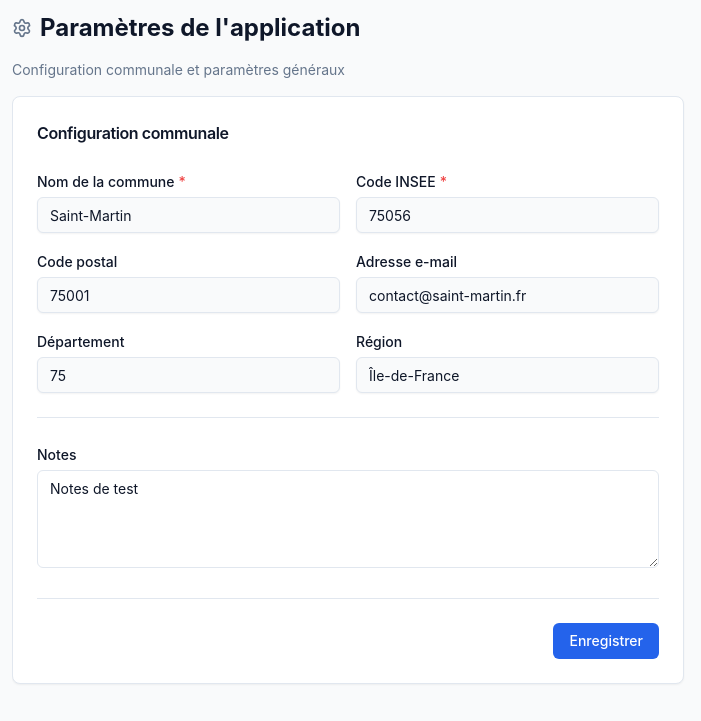
Test: Commune Settings - ParametresPage › valide le format de l'e-mail et affiche un message d'erreur
The image size is (701, 721).
Replace the text in the field with placeholder "contact@commune.fr" with "invalid-email" at [508, 295], box [356,277,659,313]
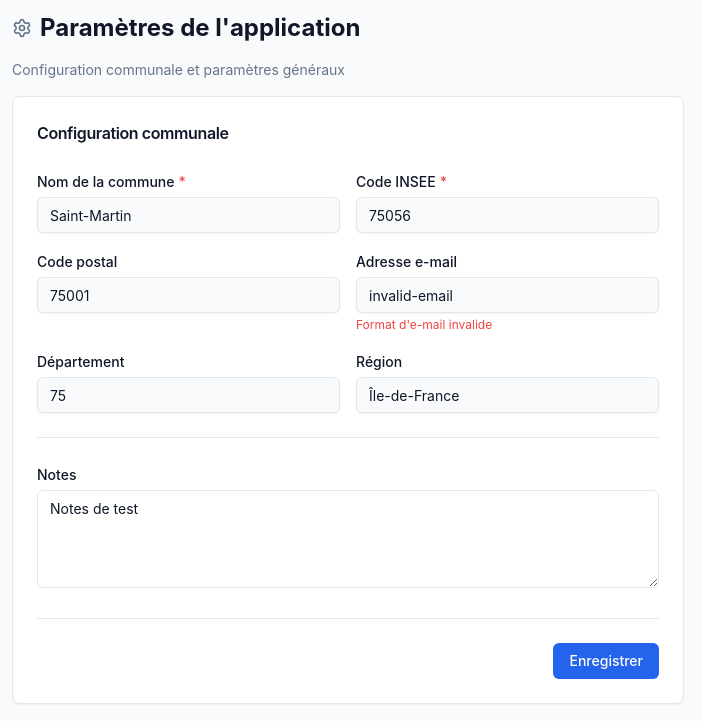
Check: the text "Format d'e-mail invalide" is shown, box [356,317,492,332]
